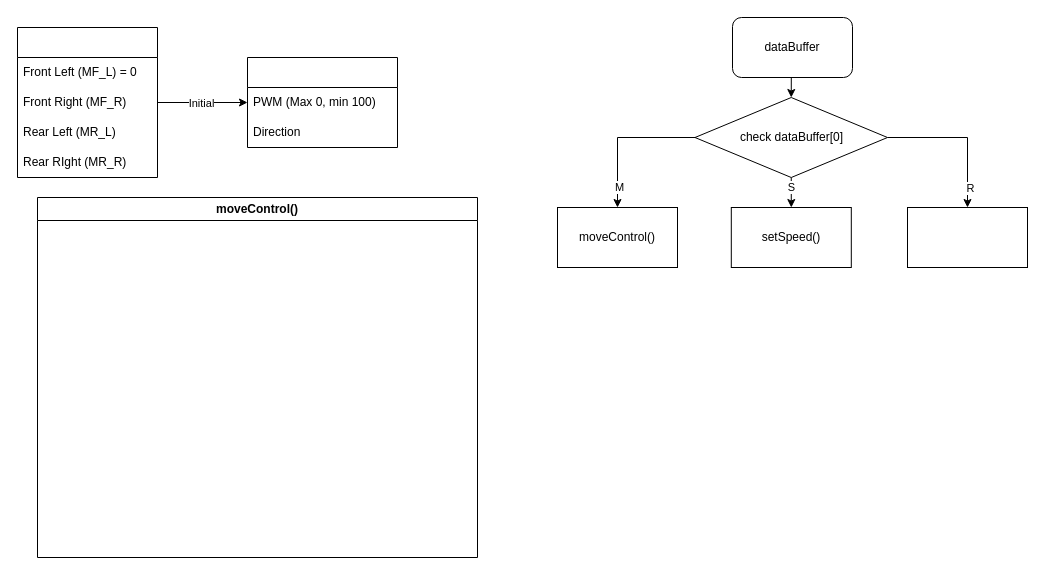
This 1045x575 diagram has some shape labels left out. The box of each missing label's shape, as (x1, y1, x2, y2) in pixels:
Motor: (16, 26, 158, 178)
rotateControl(): (906, 206, 1028, 268)
struct Motor: (246, 56, 398, 148)
